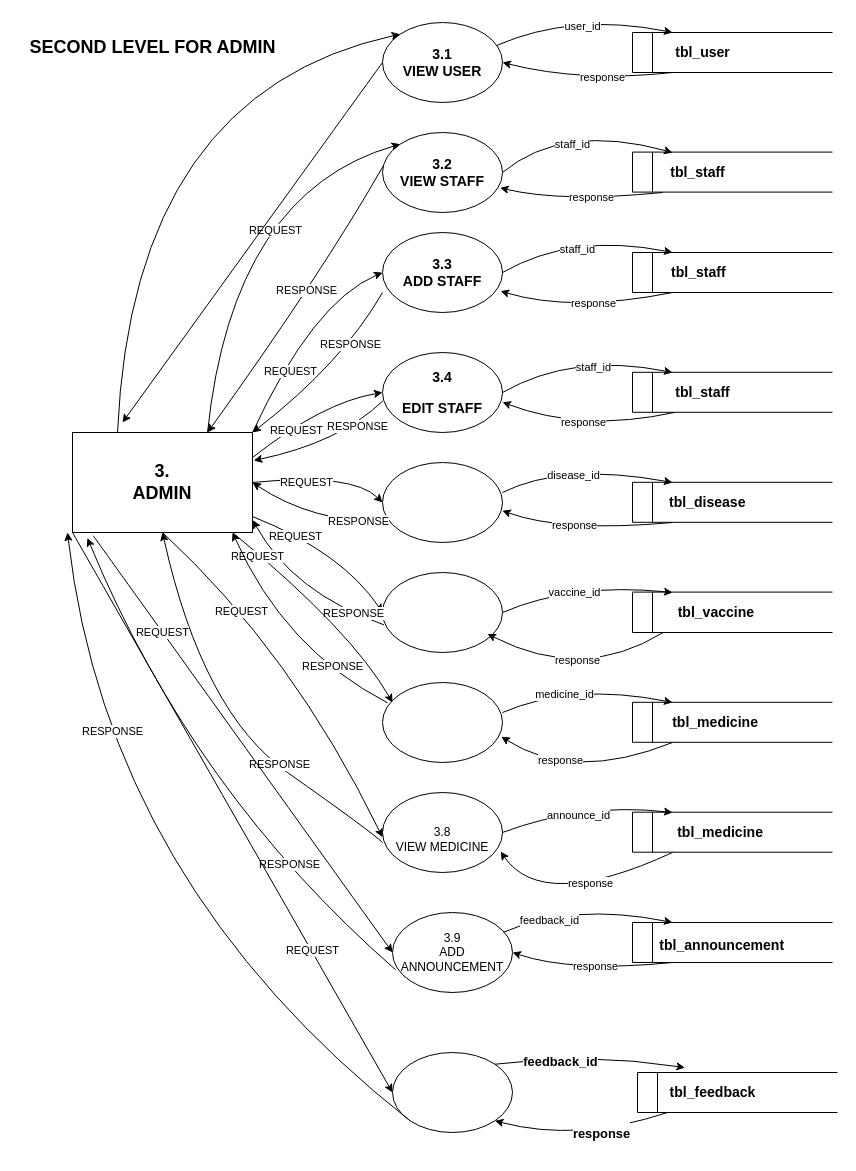
This 856x1171 diagram has some shape labels left out. The centre of each missing label's shape, as x and y in pixels:
3.10 FEEDBACK: [452,1092]
3.5 ADD DISEASE: [442,502]
3.6 ADD VACCINE: [442,612]
3.7 ADD MEDICINE: [442,722]
